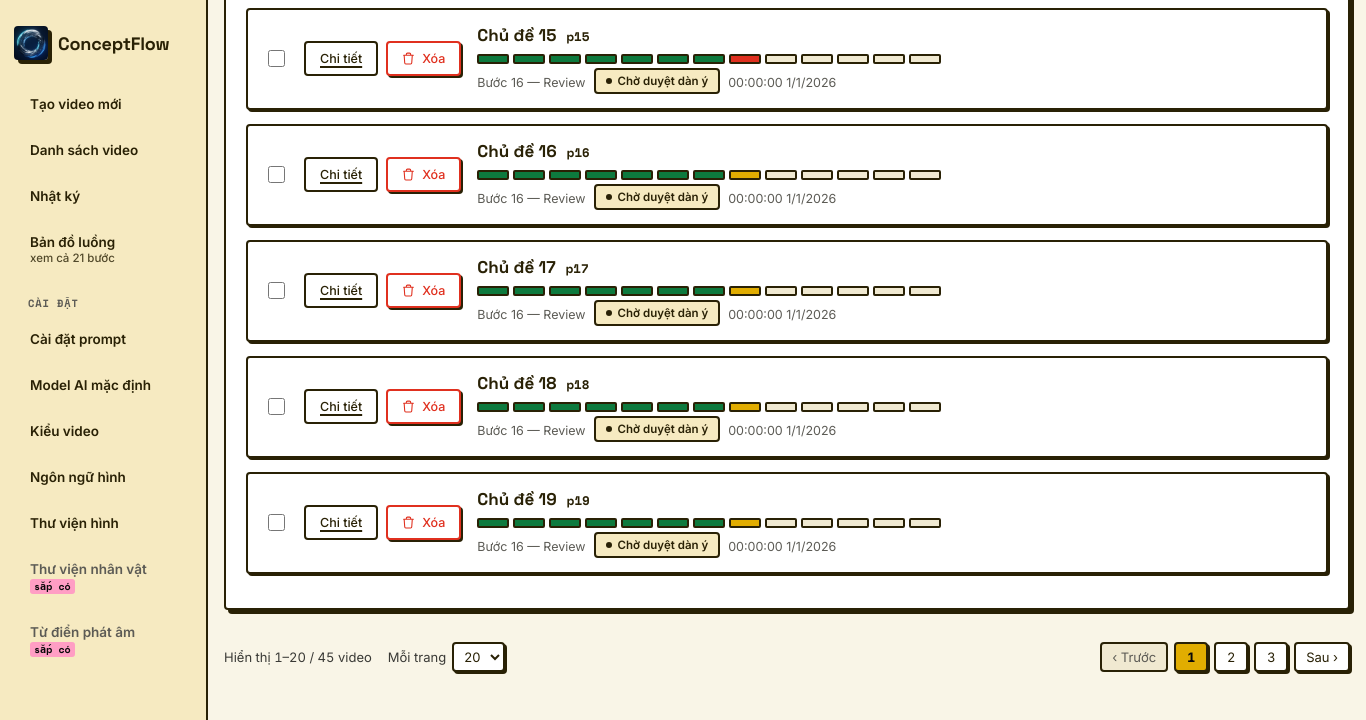
it: VideoListPage › phân trang › lets the Creator show 50 a page, and hides the pager when one page is enough
(page scrolled)
Click the button with test id "pagination-page-2": x=1231, y=657 x1=1214 y1=642 x2=1248 y2=672
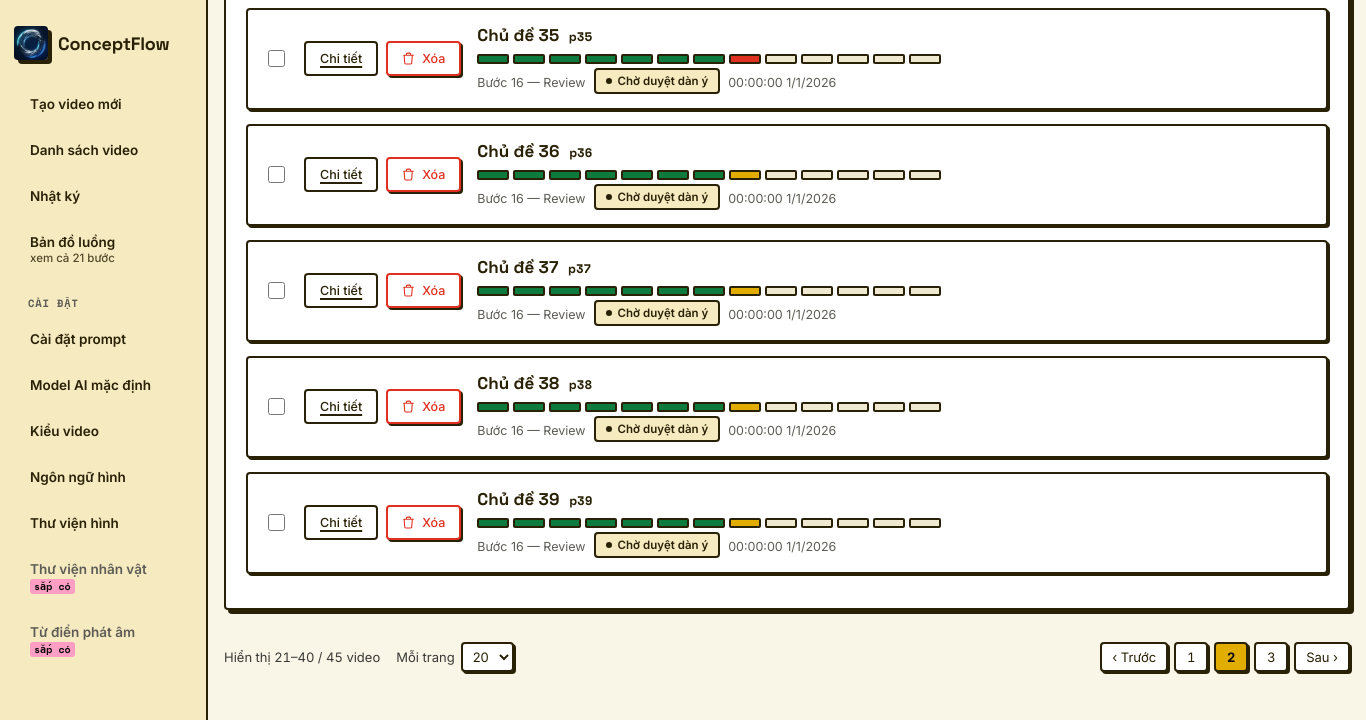
Select "50" in the dropdown with test id "pagination-size": x=487, y=657 x1=461 y1=642 x2=514 y2=672
(page scrolled)
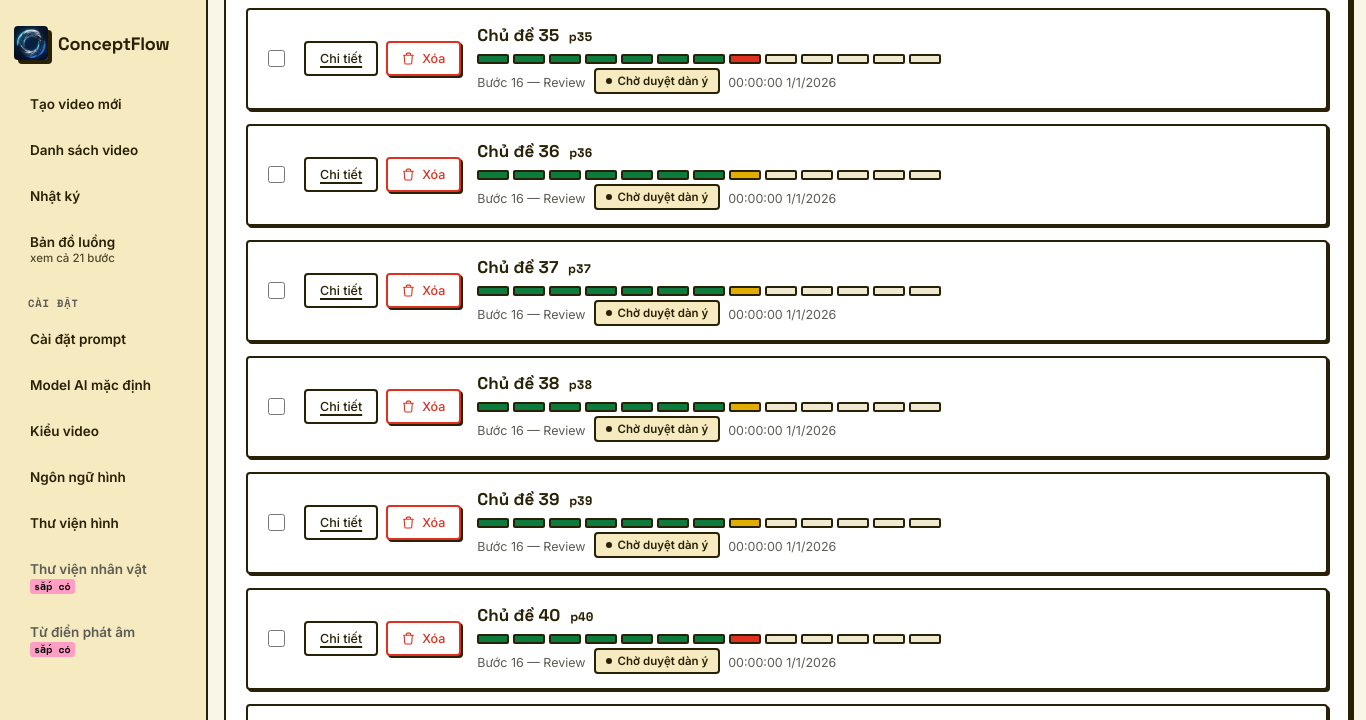
Now the navigation bar with test id "pagination" is gone
